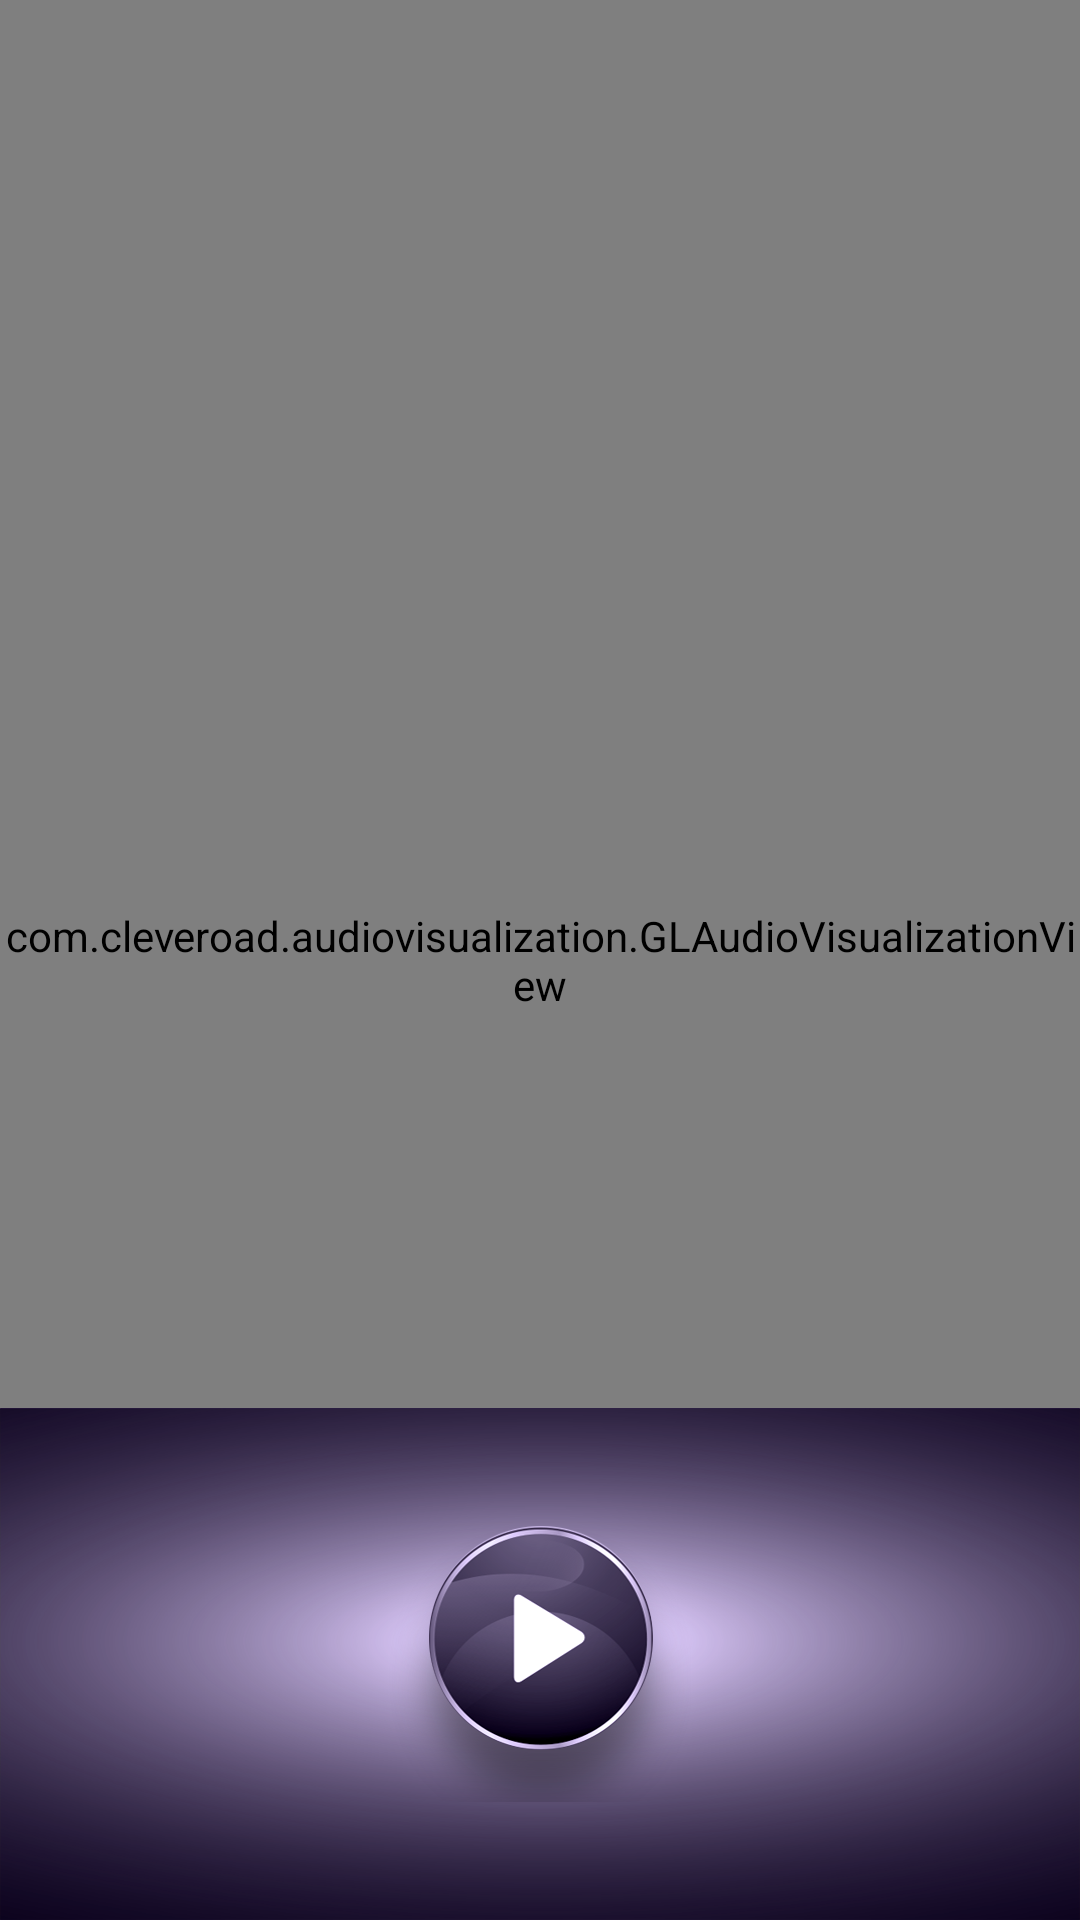

Screen size 1080*1920. Icon name, then its center in pixels as (x,y):
play radio: (540,1664)
